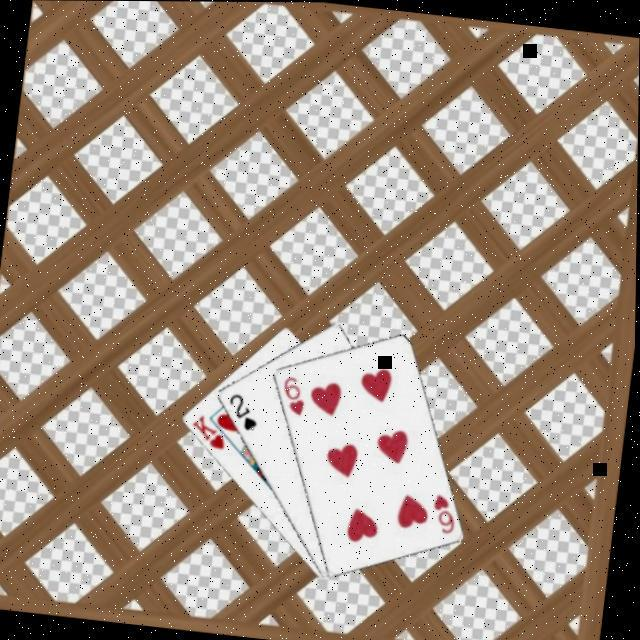2S: (221, 389, 262, 434)
6H: (426, 490, 461, 537), (277, 372, 310, 419)
KH: (186, 411, 231, 453)
